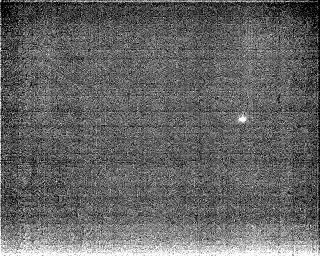AIRPLANE: (237, 114, 249, 125)
